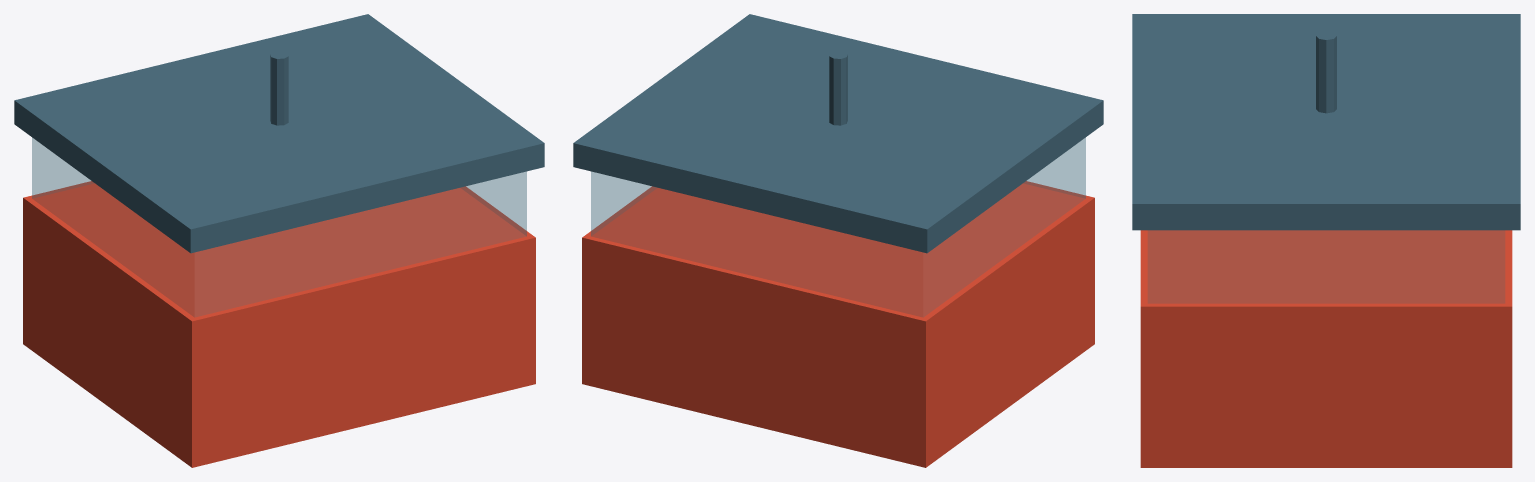
Rendered from snow-gondola.glb.
The picture shows the model from 3 angles, left to right: view 1: azimuth 30°, elevation 25°; view 2: azimuth 150°, elevation 25°; view 3: azimuth 270°, elevation 25°; orthographic projection. The views are drawn at different scales.
Parts seen in each view (by area): view 1: snow-gondola; view 2: snow-gondola; view 3: snow-gondola.
Boxes of the visible parts, x1=… form: snow-gondola: x1=14, y1=14, x2=544, y2=467; snow-gondola: x1=573, y1=14, x2=1103, y2=467; snow-gondola: x1=1132, y1=14, x2=1520, y2=467.
Size of the model in its own units: 2.78 by 2.32 by 2.4.
